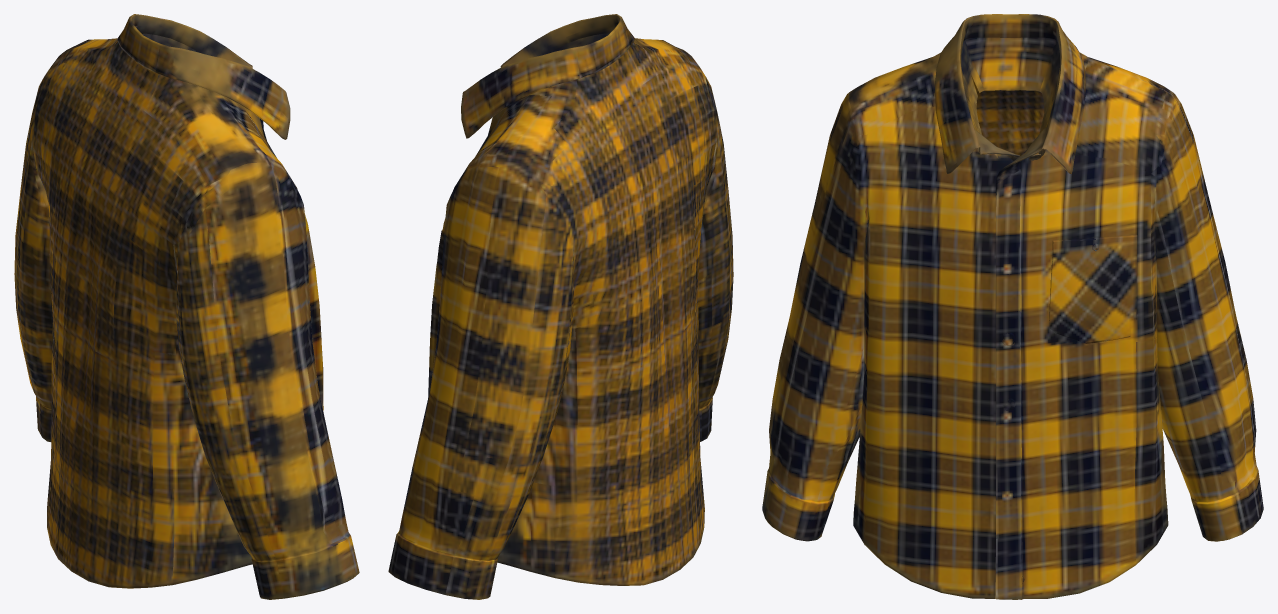
Rendered from camisa_xadrez_amarela_preta_manga_longa.glb.
3 renders of one model, left to right at view 1: azimuth 30°, elevation 25°; view 2: azimuth 150°, elevation 25°; view 3: azimuth 270°, elevation 25°, orthographic.
Visible parts, largest first — view 1: camisa_xadrez_amarela_preta_manga_longa; view 2: camisa_xadrez_amarela_preta_manga_longa; view 3: camisa_xadrez_amarela_preta_manga_longa.
Part boxes in pixels (<box>): camisa_xadrez_amarela_preta_manga_longa: <box>14,14,359,599</box>; camisa_xadrez_amarela_preta_manga_longa: <box>388,14,733,599</box>; camisa_xadrez_amarela_preta_manga_longa: <box>762,14,1263,599</box>.
Size of the model in its own units: 0.1719 by 0.3691 by 0.3257.
Materials: 1 (1 with a texture image).
